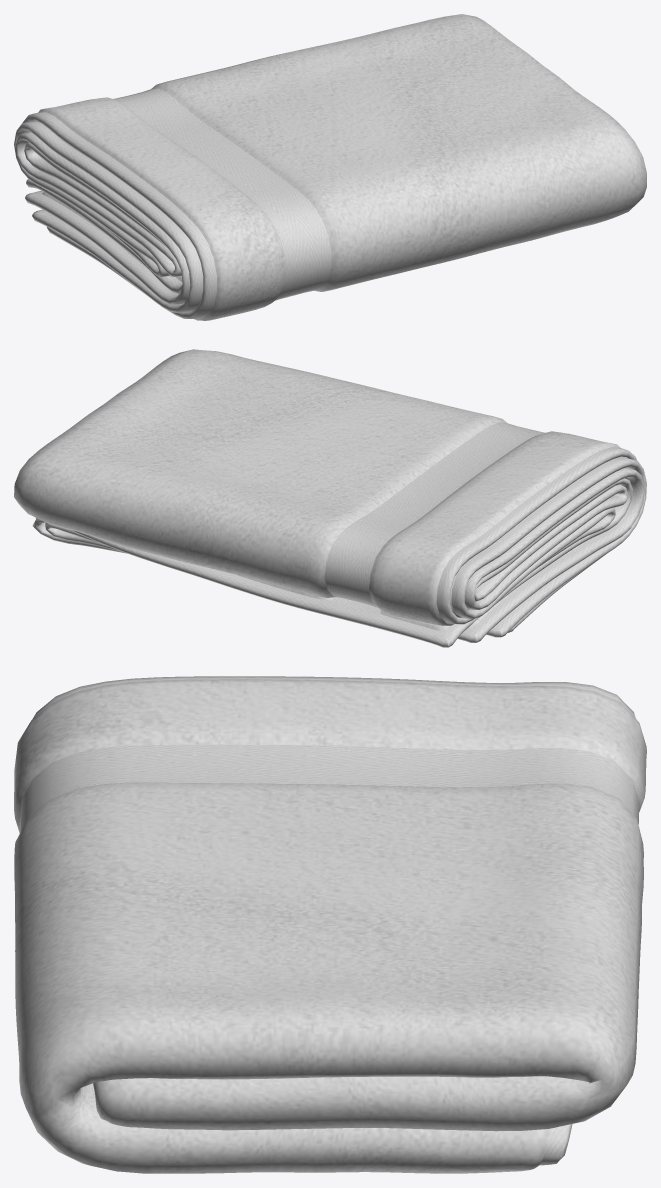
Rendered from white_towel.fbx.
3 views of the same model, one above another, from view 1: azimuth 30°, elevation 25°; view 2: azimuth 150°, elevation 25°; view 3: azimuth 270°, elevation 25° (orthographic). The views are drawn at different scales.
Visible parts, largest first — view 1: WhiteTowel001, WhiteTowel002; view 2: WhiteTowel001, WhiteTowel002; view 3: WhiteTowel001, WhiteTowel002.
Boxes of the visible parts, bbox=[...] form: WhiteTowel001: bbox=[29, 14, 646, 320]; WhiteTowel002: bbox=[14, 88, 331, 318]; WhiteTowel001: bbox=[14, 349, 628, 631]; WhiteTowel002: bbox=[32, 422, 646, 647]; WhiteTowel001: bbox=[14, 679, 646, 1173]; WhiteTowel002: bbox=[20, 676, 639, 1165].
Size of what is drawn, in the model's own units: 36.01 by 26.07 by 7.71.
